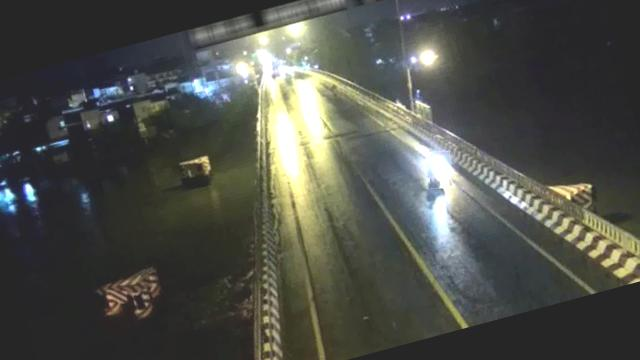Bike: (422, 148, 456, 190)
